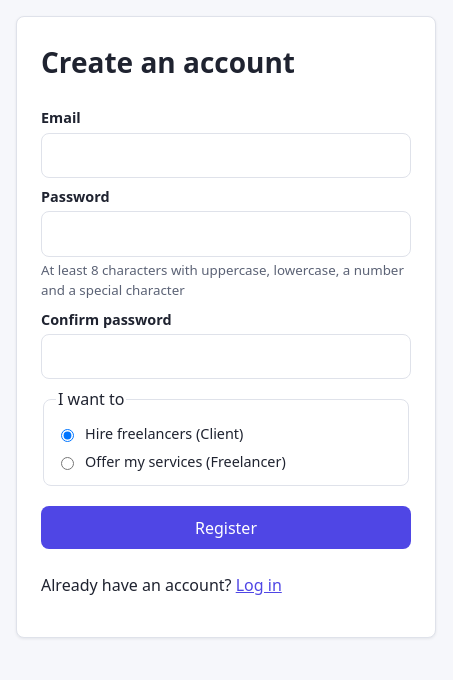
Scenario: Register page › shows an error when the passwords do not match
In the field labelled "Email": (226, 155) [41,133,411,178], type "iqra@example.com"
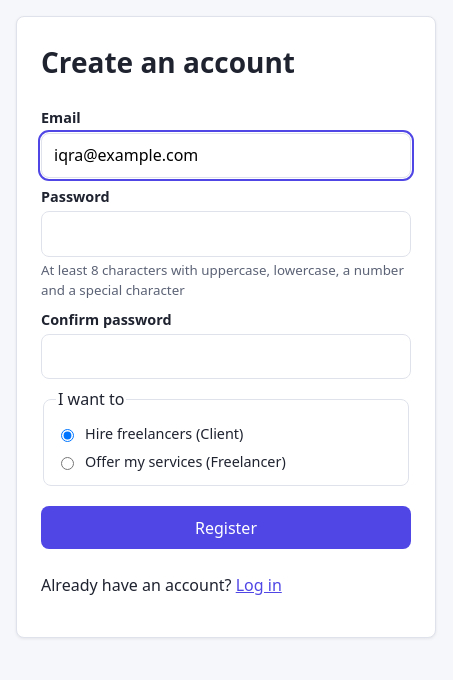
In the password field labelled "Password": (226, 234) [41,211,411,257], type "StrongPass1!"
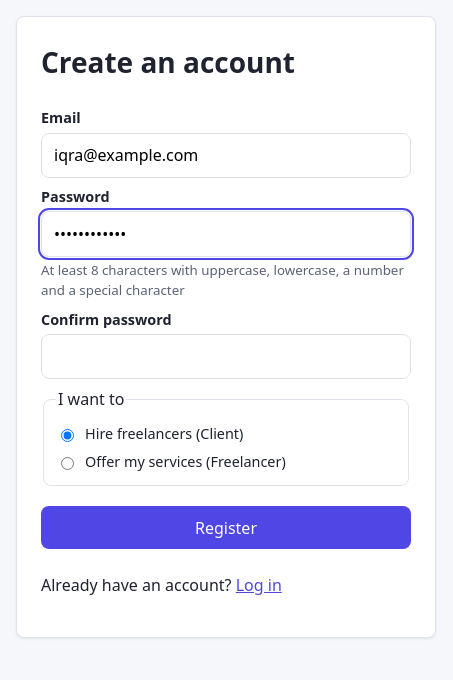
In the password field labelled "Confirm password": (226, 357) [41,334,411,379], type "Different1!"
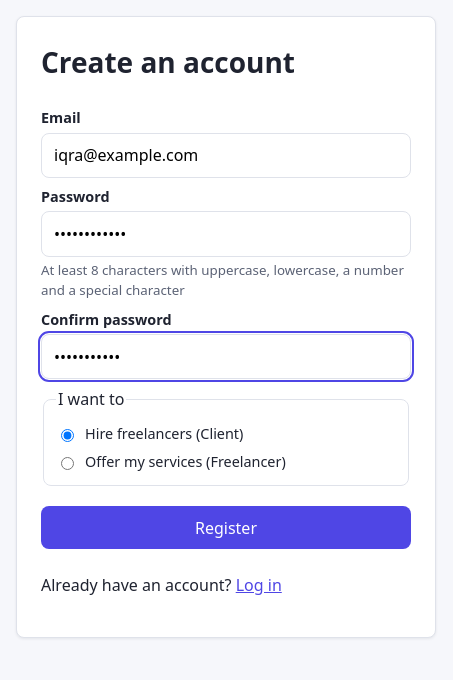
Click the button "Register": (226, 528) [41,506,411,549]
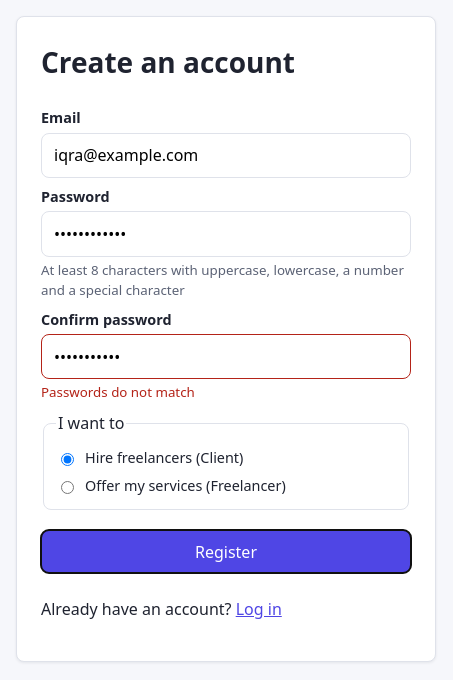
expect the text "Passwords do not match" is shown: met, box [41,383,195,401]
